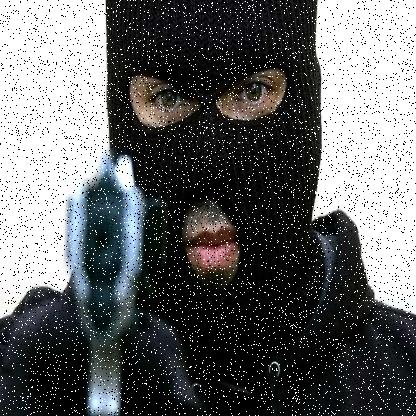pistol: (71, 146, 143, 415)
